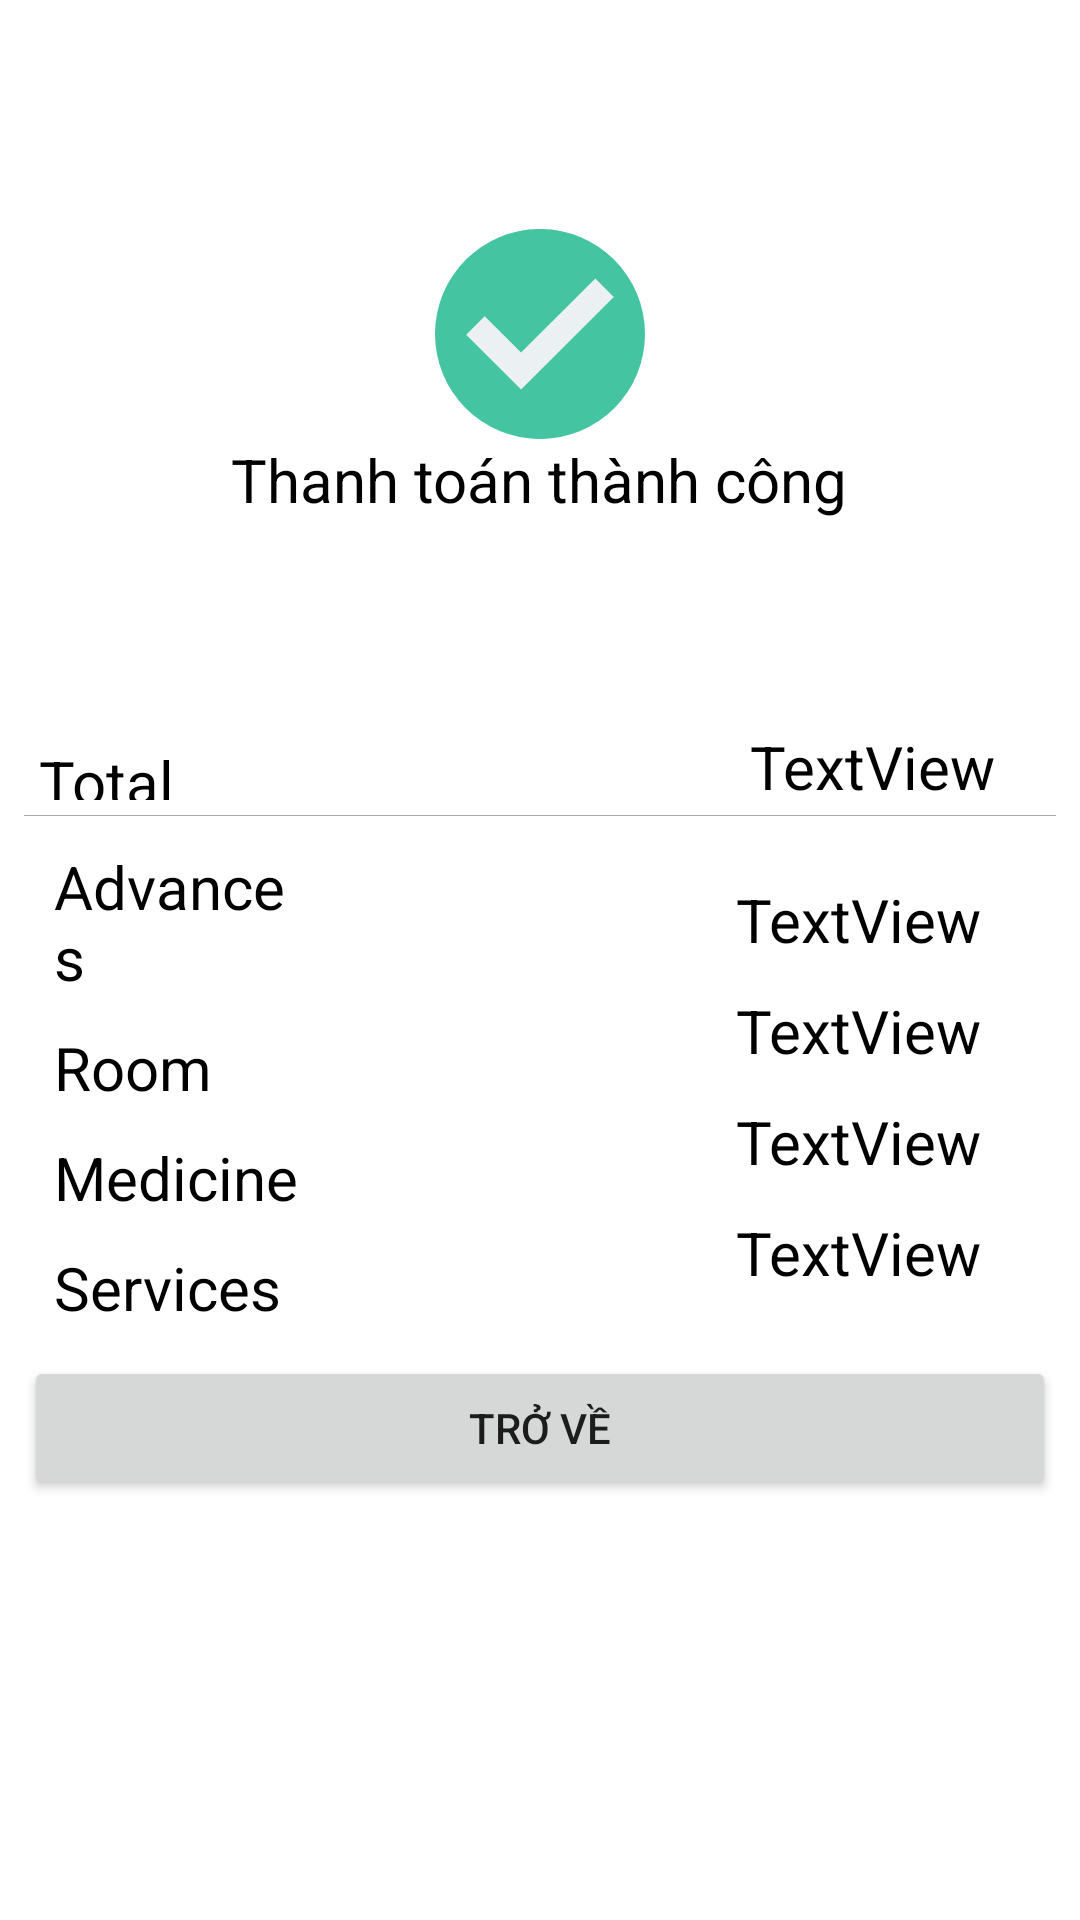

Icons on this 1080×1920 Android screen, each with its box as {"left": x1, "top": y1, "right": x2, "bottom": y2}:
tick: {"left": 435, "top": 229, "right": 645, "bottom": 439}
